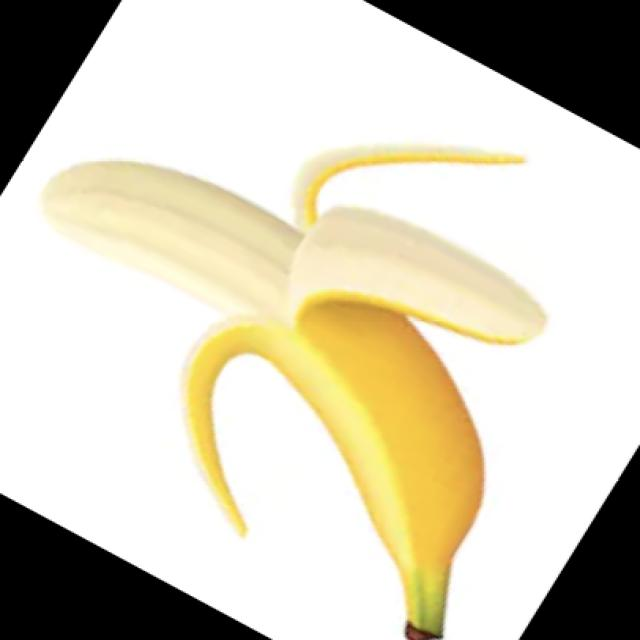god quality banana: (41, 161, 547, 640)
